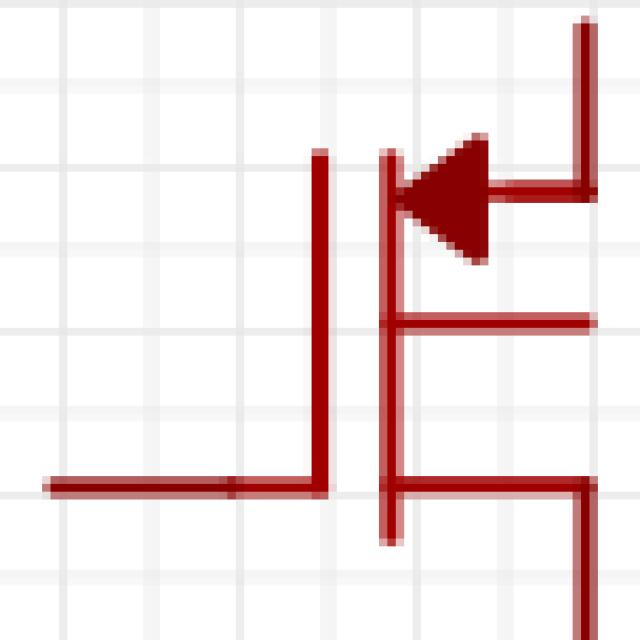pmos: (43, 9, 640, 624)
